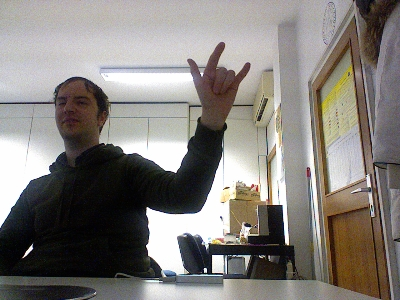我爱你: (185, 39, 250, 112)
